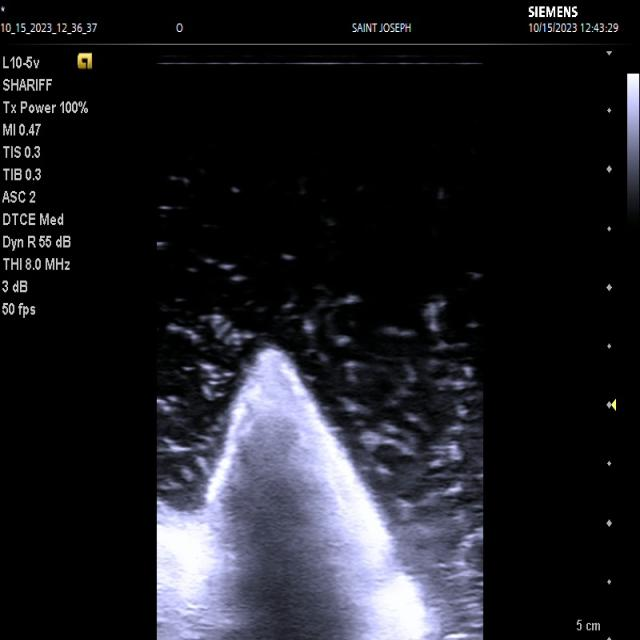tissue: (155, 348, 439, 640)
